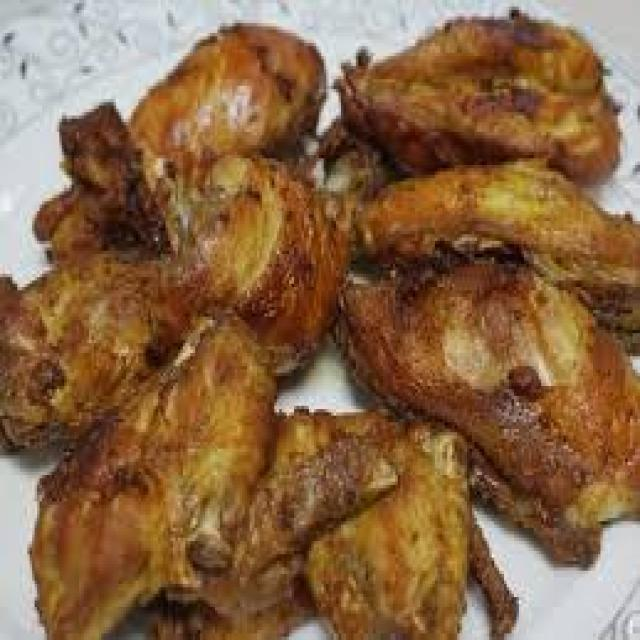Frango: (21, 185, 354, 494), (382, 245, 640, 497), (329, 1, 628, 213), (69, 369, 287, 640), (264, 387, 510, 625), (92, 40, 301, 285), (320, 176, 640, 289)
